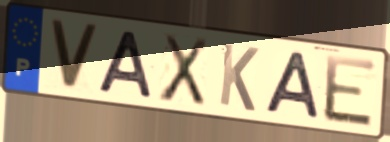A: (262, 49, 323, 123), (96, 28, 156, 101)
E: (322, 52, 379, 130)
K: (217, 40, 261, 115)
V: (47, 16, 102, 94)
X: (157, 32, 211, 109)
